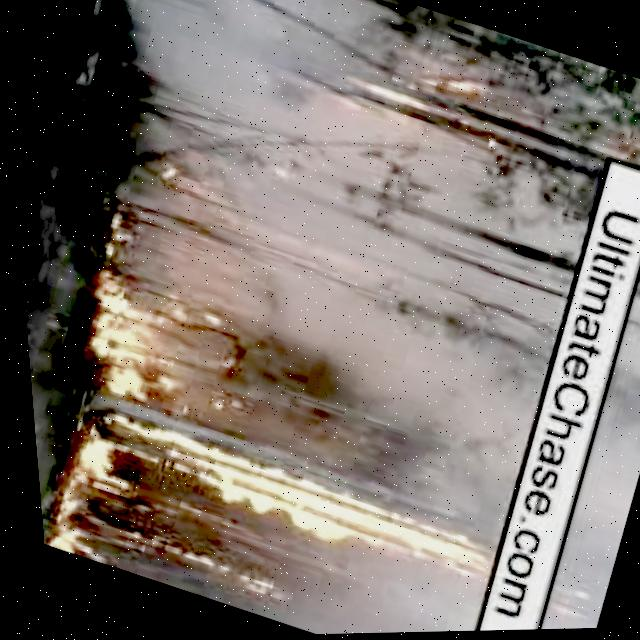Fire: (102, 413, 497, 593), (65, 257, 234, 427), (318, 26, 509, 170), (115, 524, 277, 611), (28, 440, 112, 558), (588, 110, 640, 202)
Smoke: (0, 0, 640, 529)
